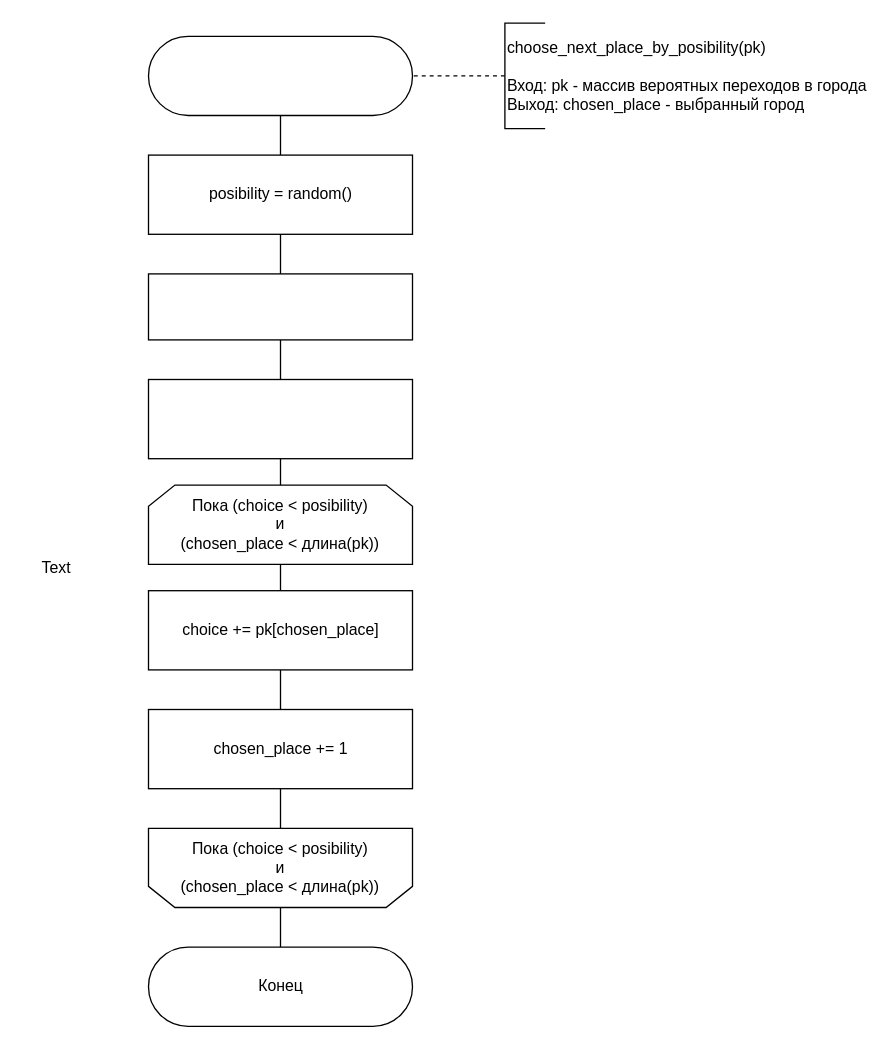
This 890x1049 diagram has some shape labels left out. The shapes that lost their labels are listed below. From the top down, each one's box as (x1, y1, x2, y2) in pixels, then its label:
(147, 35, 412, 116): Начало
(147, 273, 412, 340): choice = 0
(147, 378, 412, 459): chosen_place = 0
